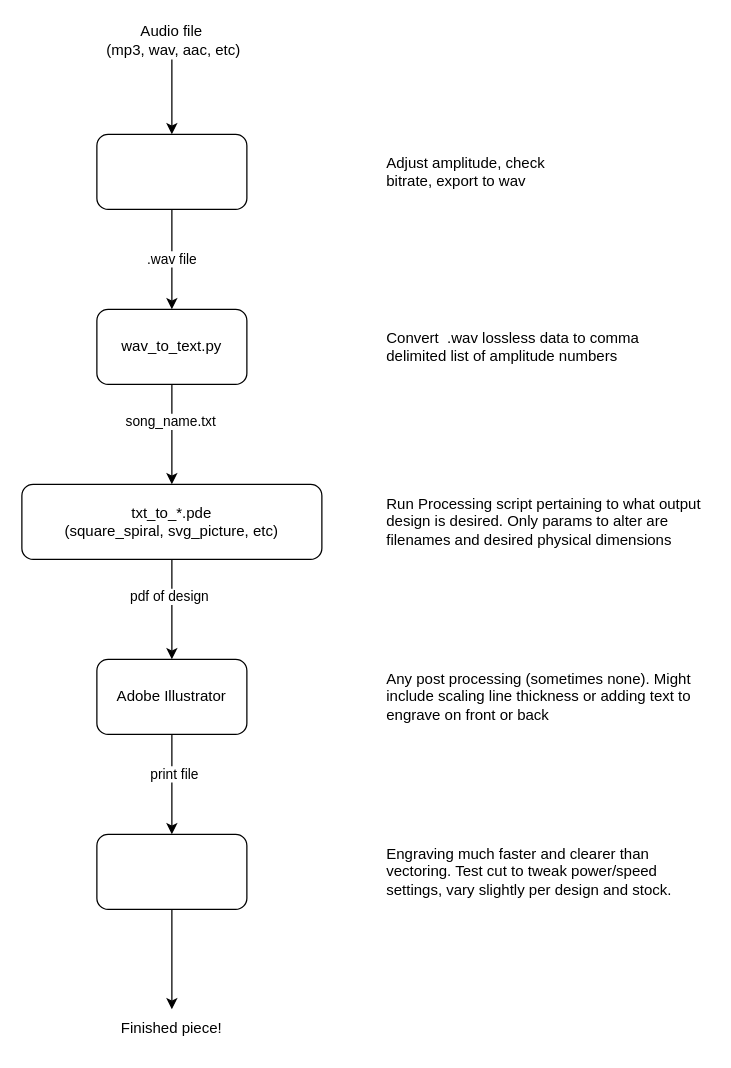
This 731x1068 diagram has some shape labels left out. Here are the shapes that lost their labels. From the top down, the centre of each, then its label:
(x=171, y=171): Audacity manual processing
(x=171, y=871): Epilog laser cutter
